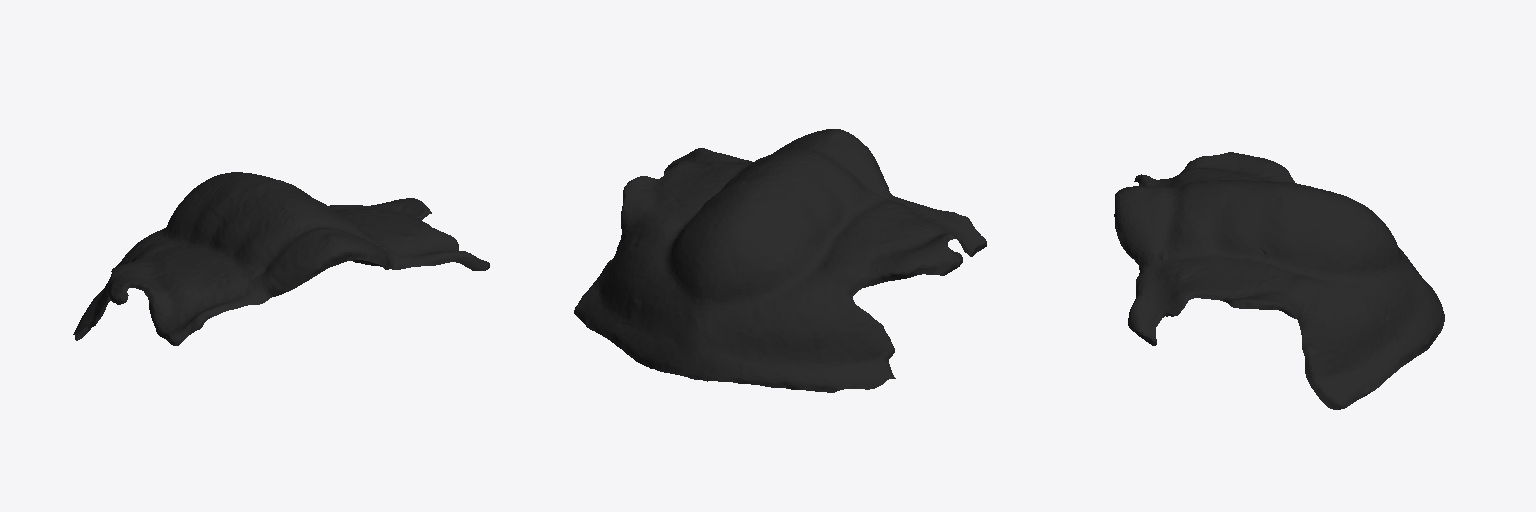
The model's file is Estaingia_simulation_base_20221125.obj.
The picture shows the model from 3 angles: view 1: azimuth 30°, elevation 25°; view 2: azimuth 150°, elevation 25°; view 3: azimuth 270°, elevation 25°; orthographic projection.
Parts seen in each view (by area): view 1: Est6-1.9k.standard_Est6-1.008; view 2: Est6-1.9k.standard_Est6-1.008; view 3: Est6-1.9k.standard_Est6-1.008.
Boxes of the visible parts, box(x1,y1,x2,y2) form: Est6-1.9k.standard_Est6-1.008: box(73, 172, 489, 345); Est6-1.9k.standard_Est6-1.008: box(574, 129, 986, 392); Est6-1.9k.standard_Est6-1.008: box(1114, 152, 1444, 409).
Bounding box in the file's own units: 1.5 × 0.6345 × 1.28.